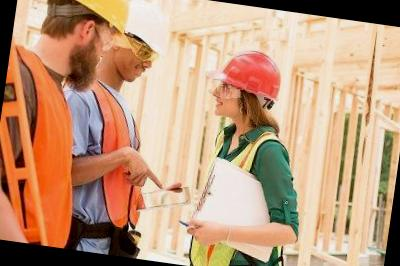helmet: (209, 44, 290, 103), (115, 0, 180, 65)
person: (52, 0, 194, 261), (181, 41, 338, 266), (0, 0, 119, 250)
